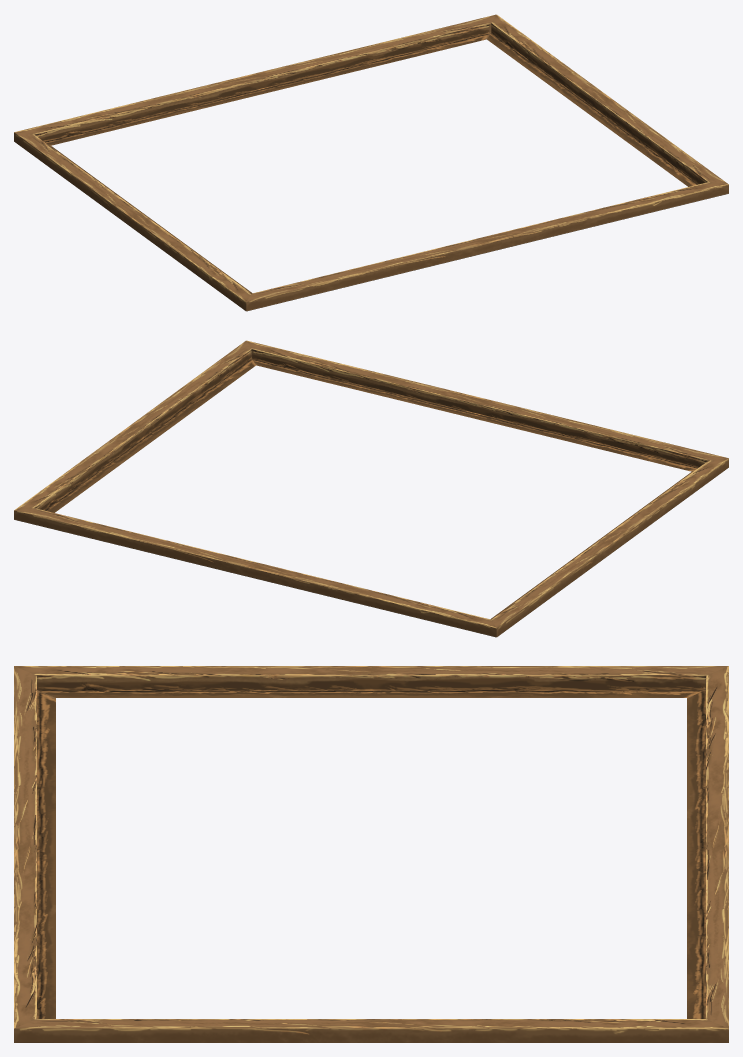
File: SocleBord.FBX
3 views of the same model, one above another, from view 1: azimuth 30°, elevation 25°; view 2: azimuth 150°, elevation 25°; view 3: azimuth 270°, elevation 25° (orthographic). The views are drawn at different scales.
Parts seen in each view (by area): view 1: Box010; view 2: Box010; view 3: Box010.
Boxes of the visible parts, <box> form: Box010: <box>14,14,728,311</box>; Box010: <box>14,340,728,637</box>; Box010: <box>14,666,728,1042</box>.
Bounding box in the file's own units: 133 × 2.45 × 111.
